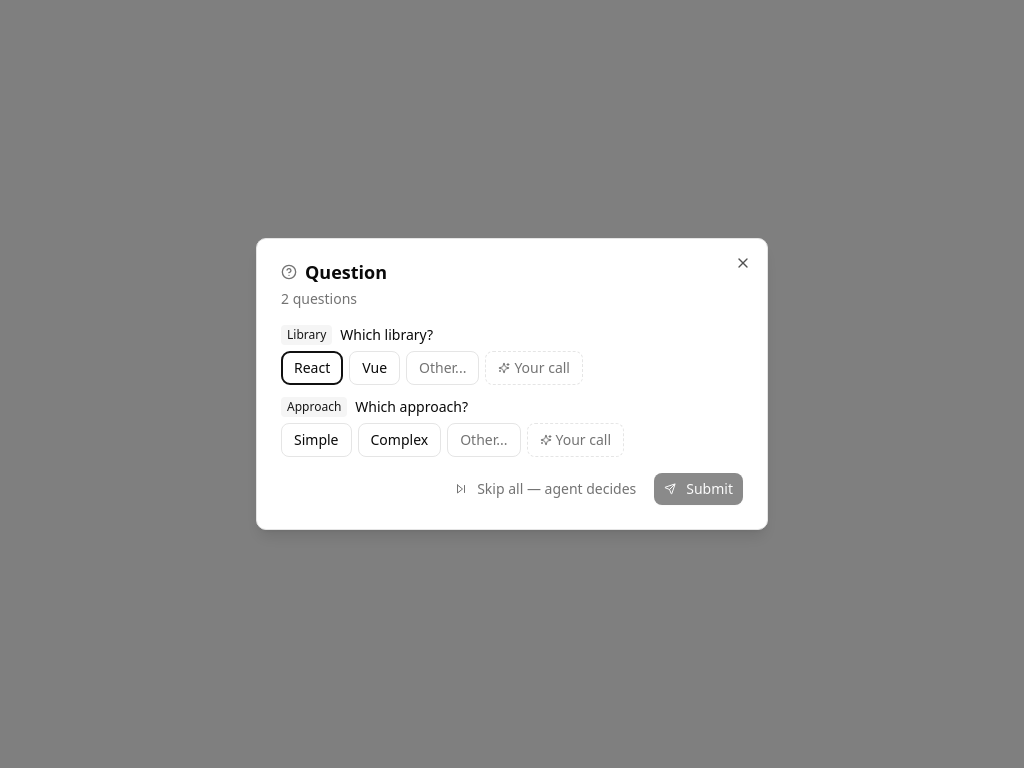
Scenario: AskUserDialog › compact mode (1-2 questions) › submit gating › submit is disabled until all questions are answered
Expected: the button "Submit" is disabled, [654,473,743,505]
Answer first question only
Click the button "React" at (312, 368), box [281,351,343,385]
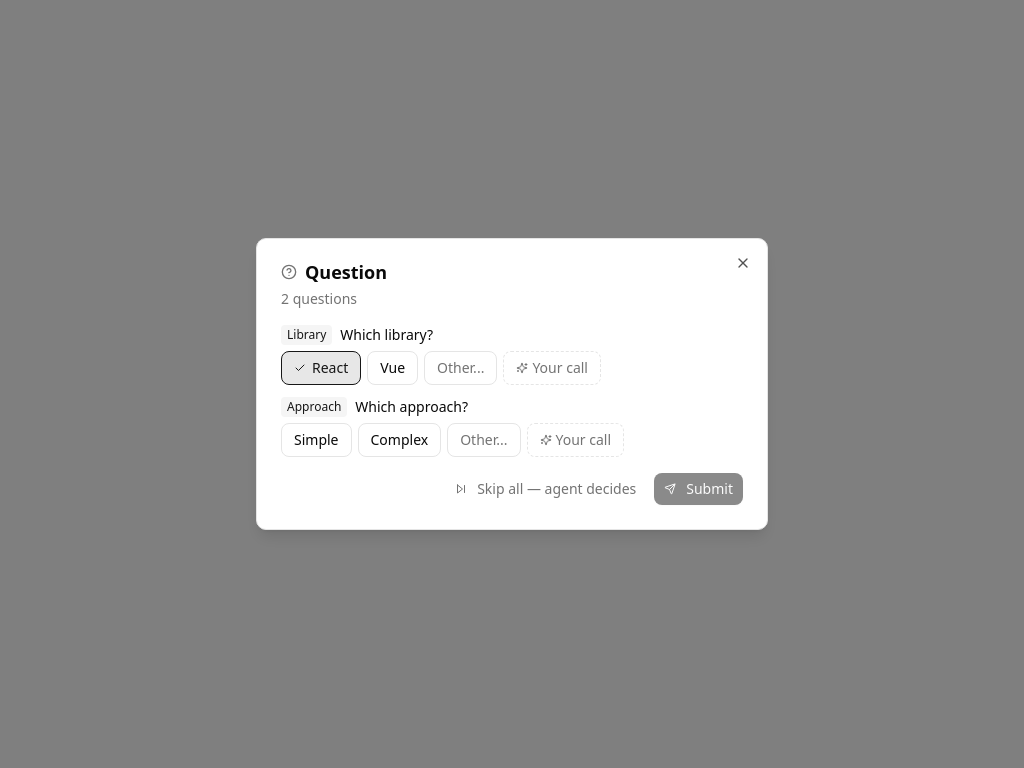
Expected: the button "Submit" is disabled, [654,473,743,505]
Answer second question
Click the button "Simple" at (316, 440), box [281,423,352,457]
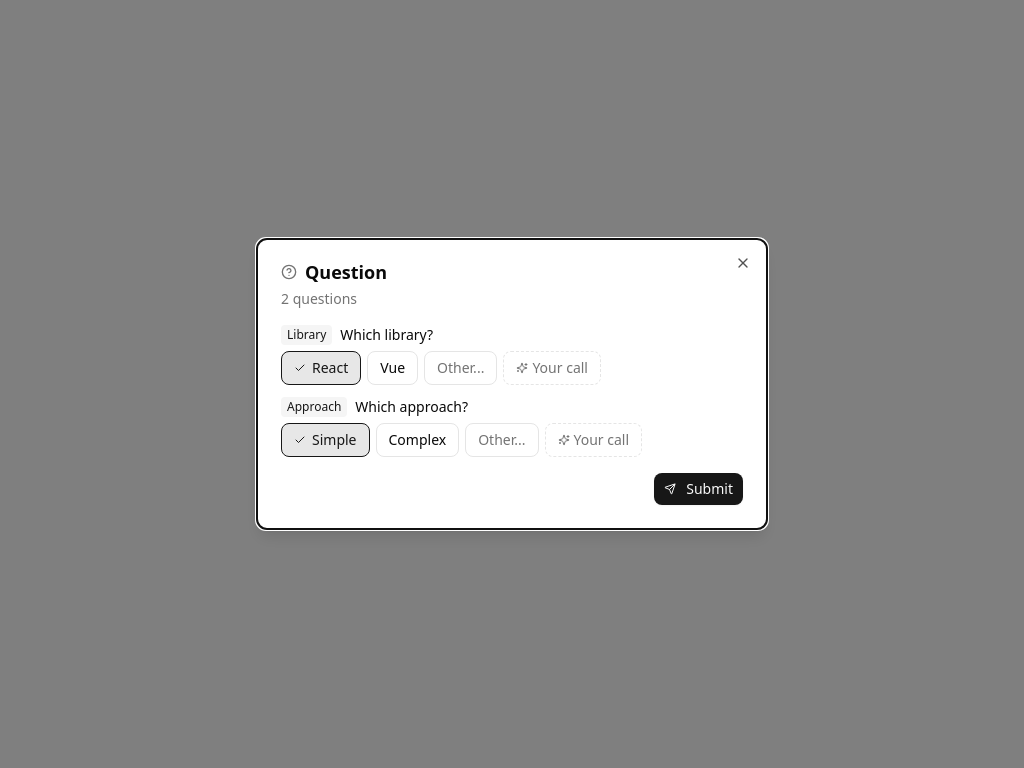
Expected: the button "Submit" is enabled, [654,473,743,505]
